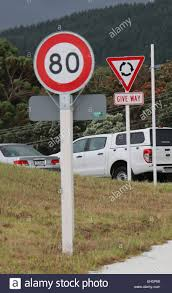Speed_limit_80km: (34, 31, 94, 93)
